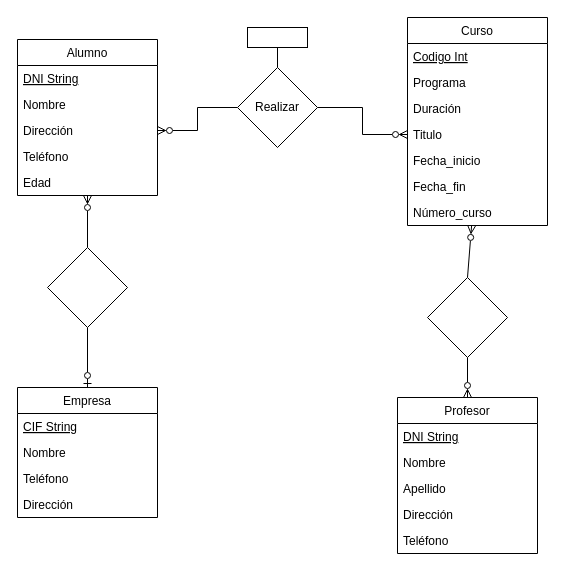
This 565x574 diagram has some shape labels left out. The shapes that lost their labels are listed below. From the top down, each one's centre as x and y in pixels, then its label:
At (x=277, y=37): "Nota".
At (x=87, y=287): "Pertenecer".
At (x=467, y=317): "Impartir".
